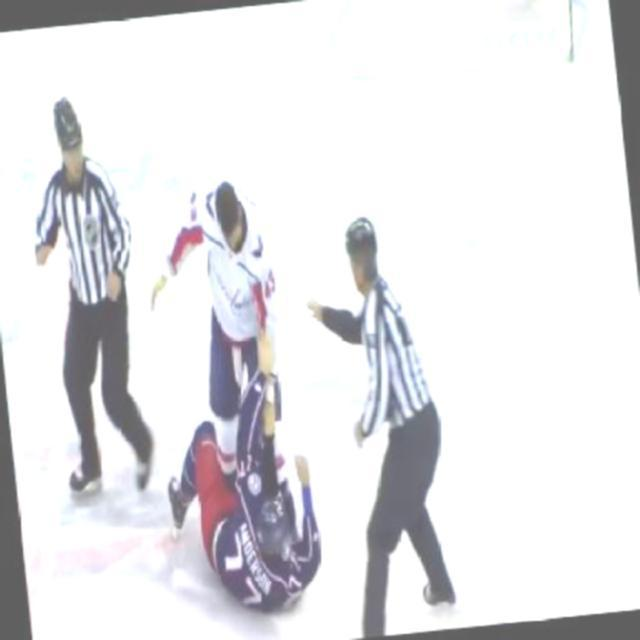fight: (134, 170, 331, 626)
non-fight: (293, 203, 464, 640), (16, 87, 162, 502)
